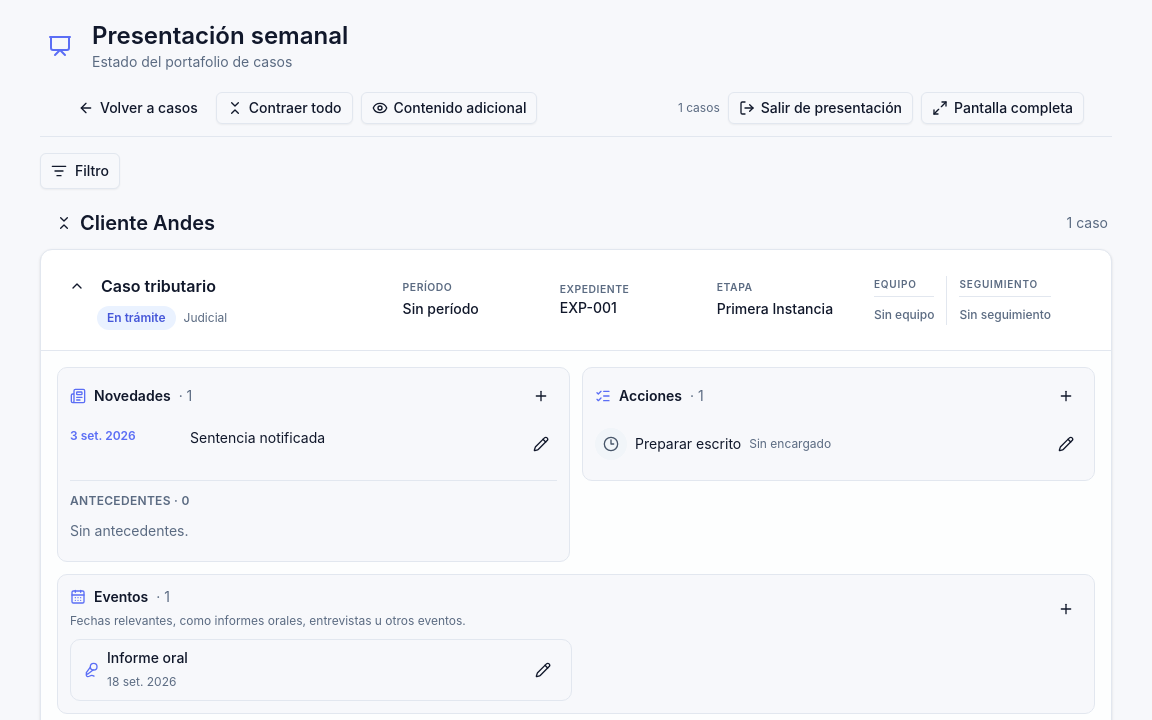
CasePresentationPage › collapses a client independently from its cases
Click the button "Cliente Andes". click: (136,223)
box: top-left (44, 205), bottom-right (227, 241)
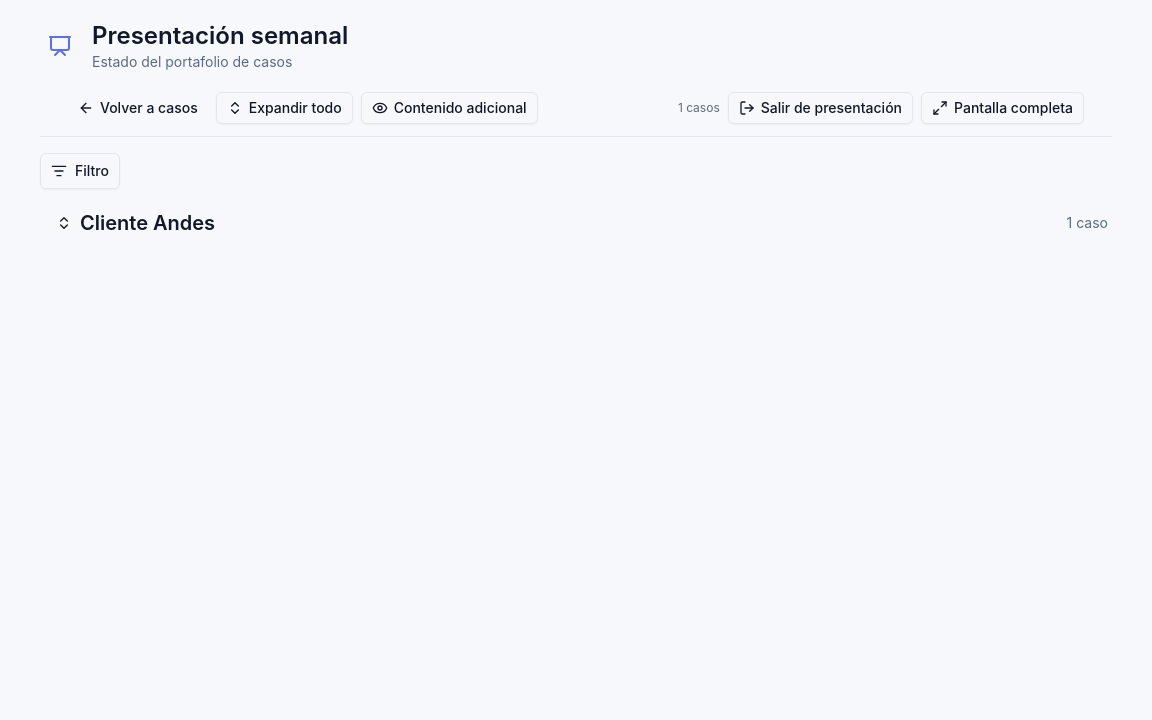
Expected: the text "Sentencia notificada" is gone
Click the button "Cliente Andes". click: (136,223)
box: top-left (44, 205), bottom-right (227, 241)
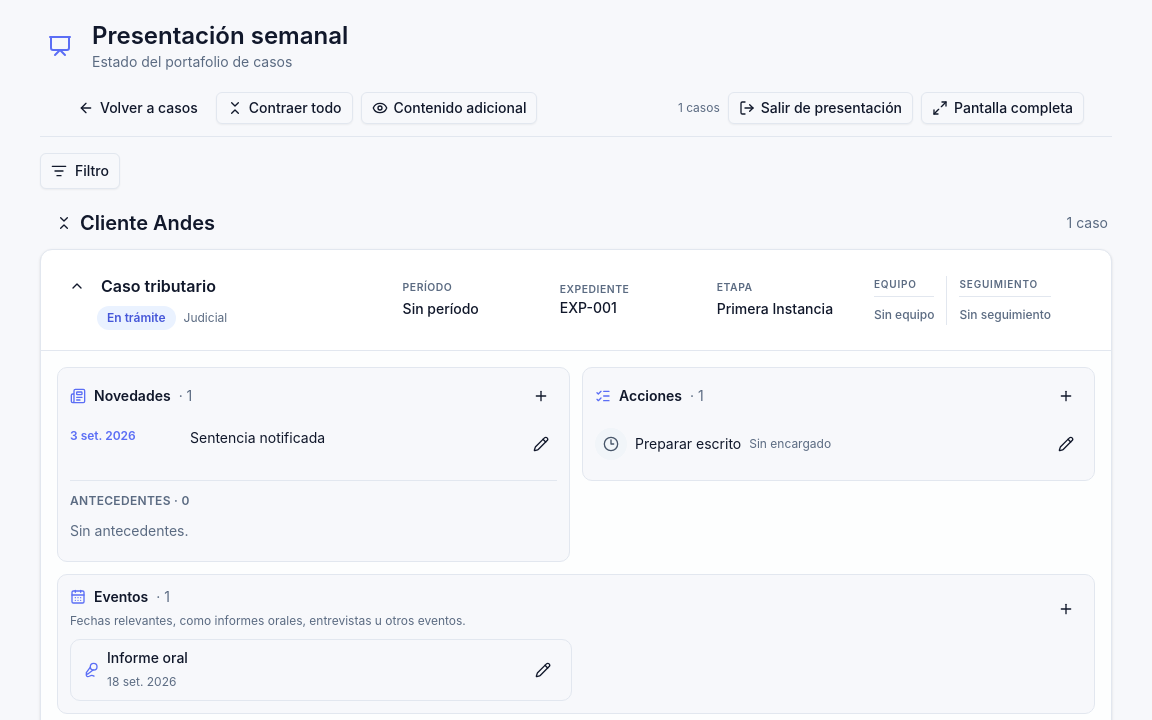
Expected: the text "Sentencia notificada" is shown, top-left (190, 429), bottom-right (325, 446)
